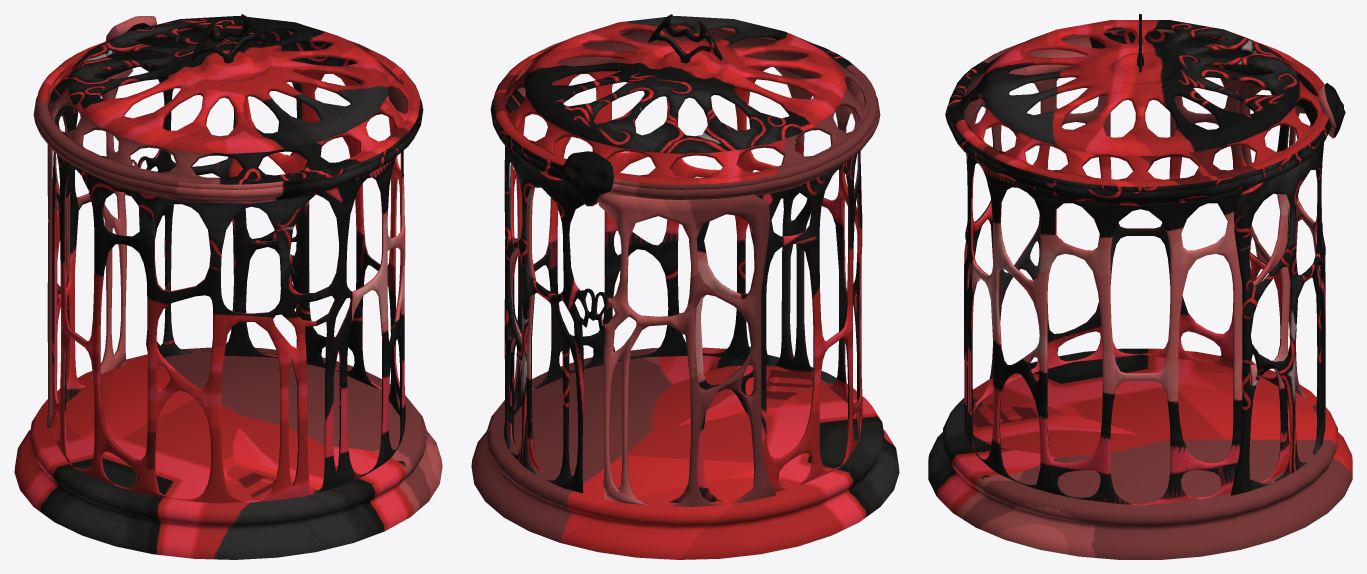
The model's file is SM_CageAEnfants.fbx.
The picture shows the model from 3 angles, left to right: view 1: azimuth 30°, elevation 25°; view 2: azimuth 150°, elevation 25°; view 3: azimuth 270°, elevation 25°; orthographic projection.
Visible parts, largest first — view 1: Plane.004; view 2: Plane.004; view 3: Plane.004.
Boxes of the visible parts, x1,y1,x2,y2 form: Plane.004: [14, 14, 442, 559]; Plane.004: [471, 14, 899, 559]; Plane.004: [928, 14, 1352, 559].
Bounding box in the file's own units: 371 × 433 × 371.
